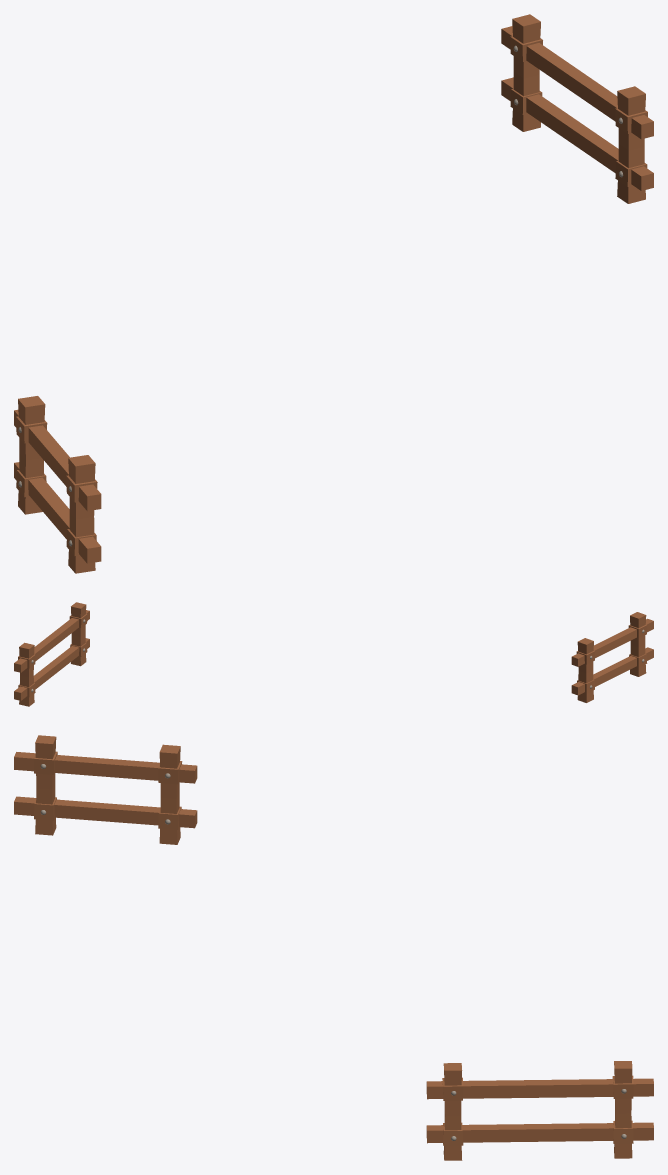
The model's file is wooden_fence-v1.glb.
3 views of the same model, one above another, from view 1: azimuth 30°, elevation 25°; view 2: azimuth 150°, elevation 25°; view 3: azimuth 270°, elevation 25° (orthographic). The views are drawn at different scales.
Parts seen in each view (by area): view 1: pole_1.003, pole_1.001; view 2: pole_1.001, pole_1.003; view 3: pole_1.003, pole_1.001.
Part boxes in pixels (left/top/right/bottom): pole_1.003: left=501, top=14, right=653, bottom=203; pole_1.001: left=14, top=396, right=101, bottom=573; pole_1.001: left=571, top=612, right=653, bottom=702; pole_1.003: left=14, top=602, right=89, bottom=706; pole_1.003: left=426, top=1061, right=653, bottom=1160; pole_1.001: left=14, top=735, right=197, bottom=844.
Size of the model in its own units: 2.07 by 0.2627 by 1.66.
